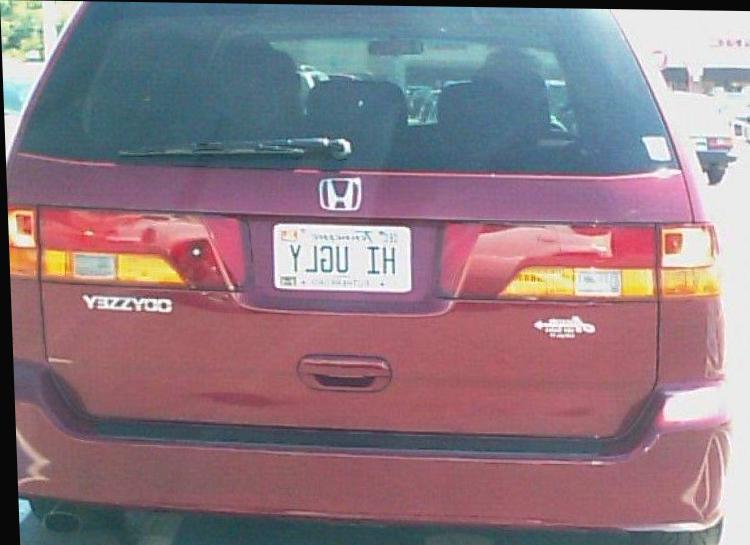License_Plate: (265, 217, 420, 303)
